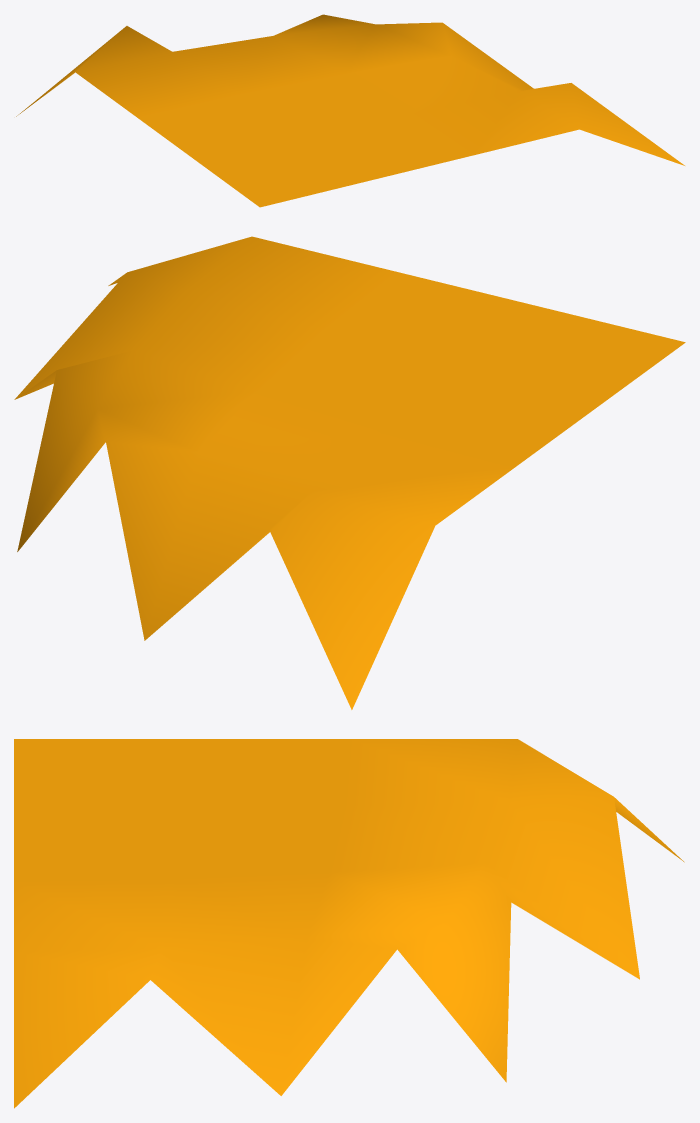
Rendered from Queso.glb.
3 views of the same model, one above another, from view 1: azimuth 30°, elevation 25°; view 2: azimuth 150°, elevation 25°; view 3: azimuth 270°, elevation 25° (orthographic). The views are drawn at different scales.
Parts seen in each view (by area): view 1: SegundoQueso; view 2: SegundoQueso; view 3: SegundoQueso.
Part boxes in pixels (x1=…): SegundoQueso: x1=16, y1=14, x2=684, y2=207; SegundoQueso: x1=14, y1=236, x2=685, y2=709; SegundoQueso: x1=14, y1=739, x2=684, y2=1108.
Bounding box in the file's own units: 1.12 × 0.2579 × 1.12.
